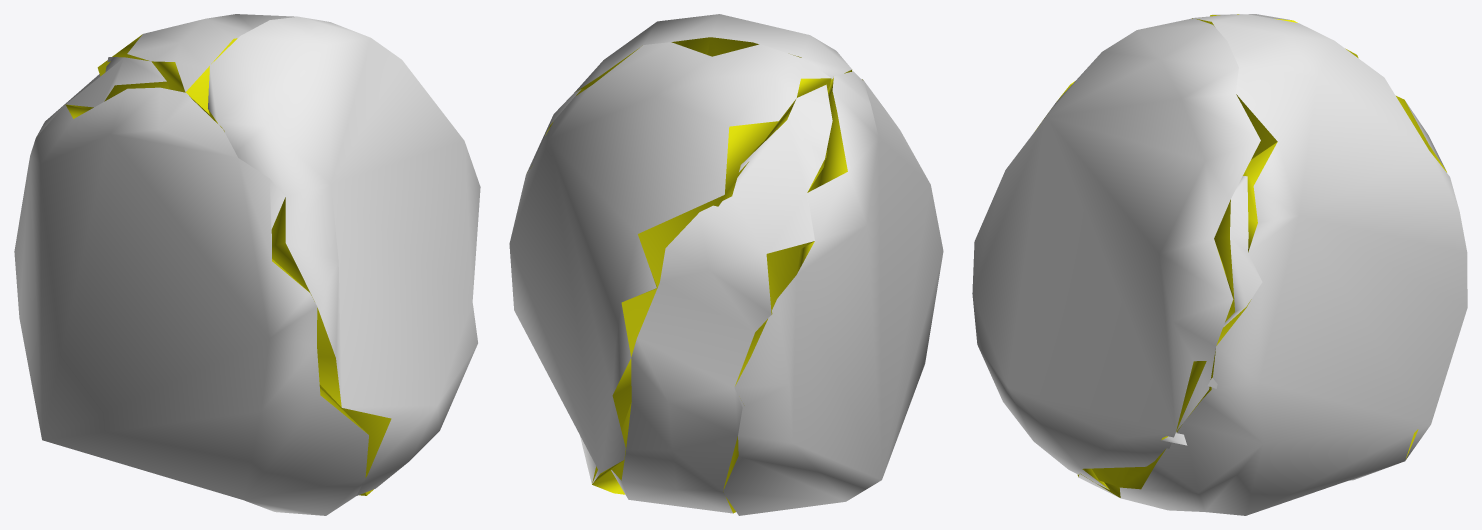
File: DestroyableRock5PieceRock5piece.fbx
3 renders of one model, left to right at view 1: azimuth 30°, elevation 25°; view 2: azimuth 150°, elevation 25°; view 3: azimuth 270°, elevation 25°, orthographic. The views are drawn at different scales.
Parts seen in each view (by area): view 1: shard1, shard3, shard5, shard4; view 2: shard5, shard1, shard4, shard3; view 3: shard5, shard3, shard6, shard4.
Part boxes in pixels (bbox=[...]): shard1: bbox=[14, 87, 368, 515]; shard3: bbox=[208, 16, 480, 495]; shard5: bbox=[97, 14, 373, 495]; shard4: bbox=[36, 57, 224, 137]; shard5: bbox=[509, 42, 831, 494]; shard1: bbox=[723, 71, 943, 515]; shard4: bbox=[611, 70, 852, 513]; shard3: bbox=[574, 14, 852, 92]; shard5: bbox=[1077, 14, 1467, 515]; shard3: bbox=[972, 18, 1260, 489]; shard6: bbox=[1214, 176, 1262, 327]; shard4: bbox=[1210, 14, 1446, 172].
Bounding box in the file's own units: 423 × 462 × 461.
